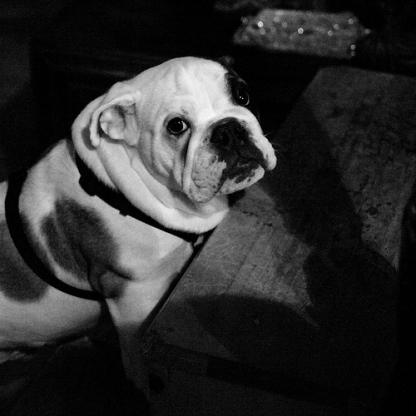dog: (0, 53, 279, 400)
